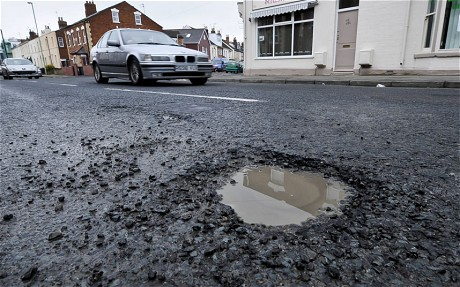pothole: (206, 146, 364, 230)
